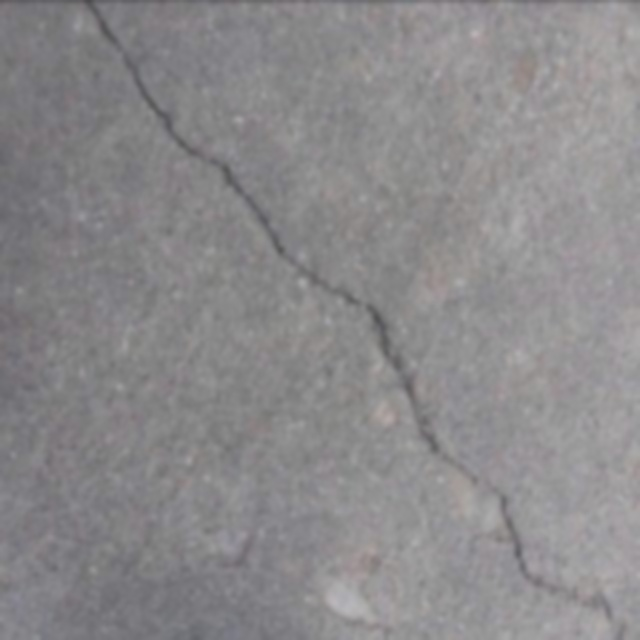SurfaceCrack: (74, 0, 634, 640)
